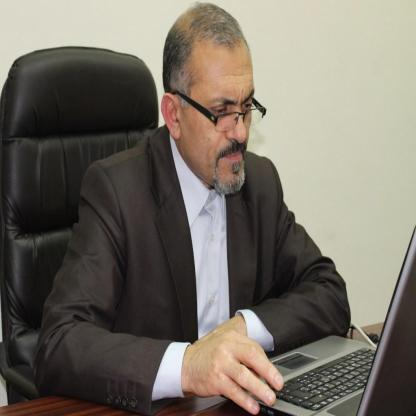board: (219, 224, 416, 416)
